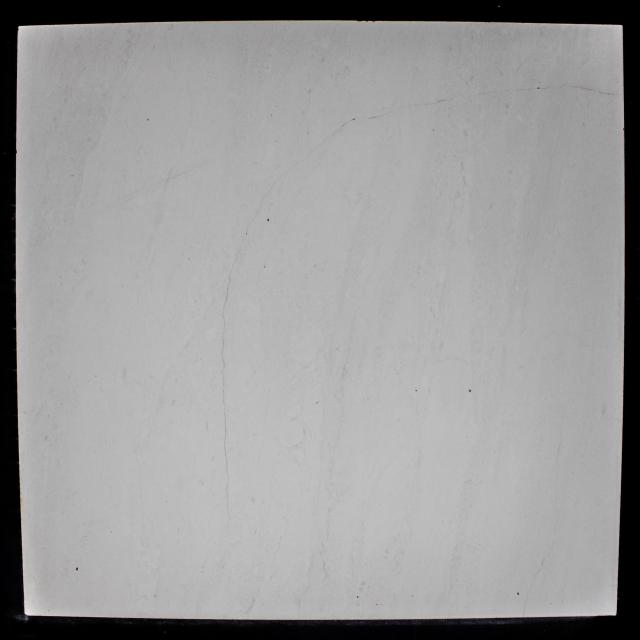edge-chipping: (622, 128, 625, 132)
hole: (75, 566, 79, 572), (414, 388, 418, 393), (266, 218, 270, 222), (468, 389, 472, 393), (516, 592, 520, 596), (356, 595, 360, 599), (537, 86, 540, 90), (146, 118, 150, 121)
line: (568, 84, 619, 96), (302, 137, 327, 161), (533, 552, 550, 578), (247, 204, 262, 232), (222, 272, 232, 312), (328, 121, 352, 137), (262, 180, 278, 203), (556, 421, 564, 466), (426, 96, 455, 106), (366, 111, 392, 120), (221, 313, 226, 357), (541, 83, 567, 90), (221, 359, 225, 402), (523, 592, 529, 617), (515, 86, 536, 92), (223, 403, 227, 434), (225, 460, 230, 480), (225, 484, 229, 506), (224, 435, 227, 460)
